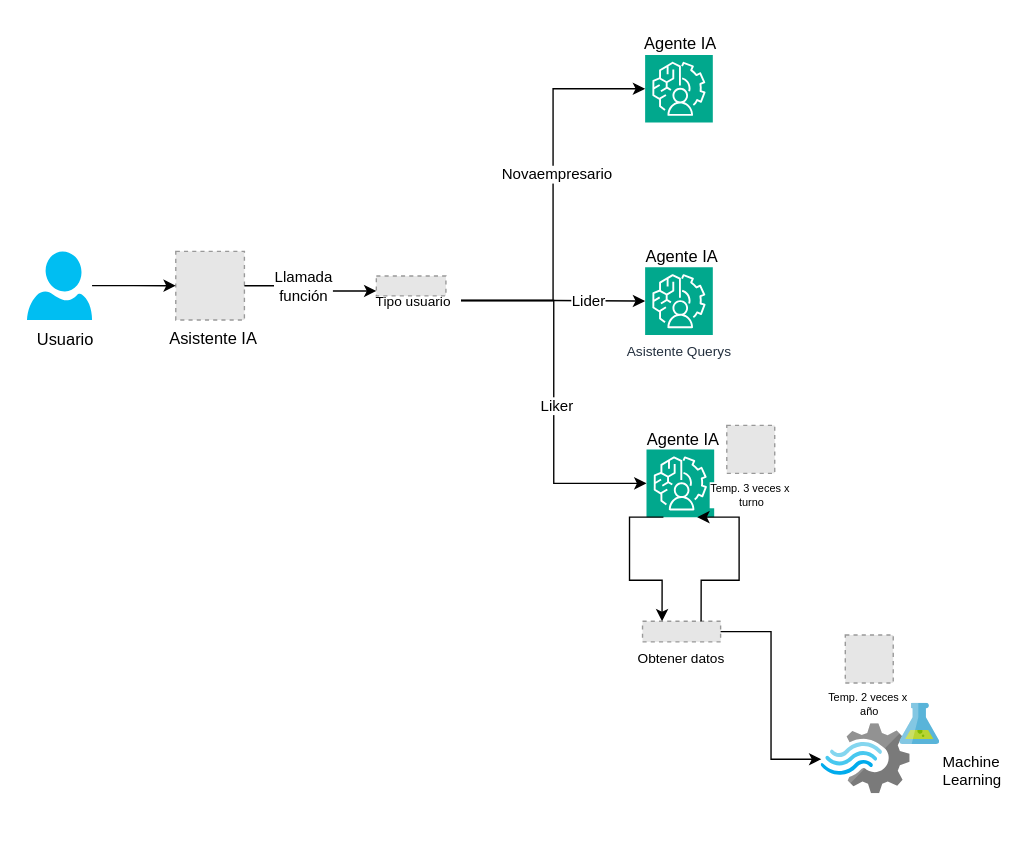
This 1025x862 diagram has some shape labels left out. Grey dashed boxes stand in for pictures. The shapes that lost their labels are listed below. From the top down, each one's centre as x and y in pixels, then its label:
At pixel 678 88: "Asistente Campaña".
At pixel 679 482: "Asistente Liker".
At pixel 865 758: "Predicción ventas".
